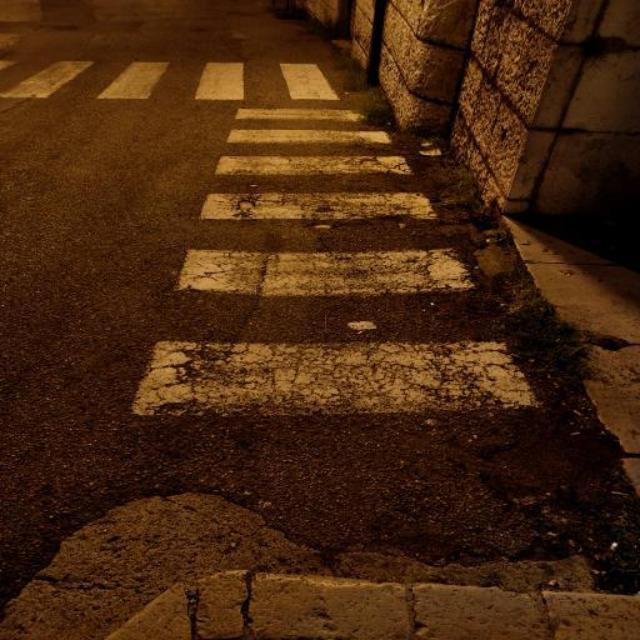sidewalk: (0, 54, 577, 616)
